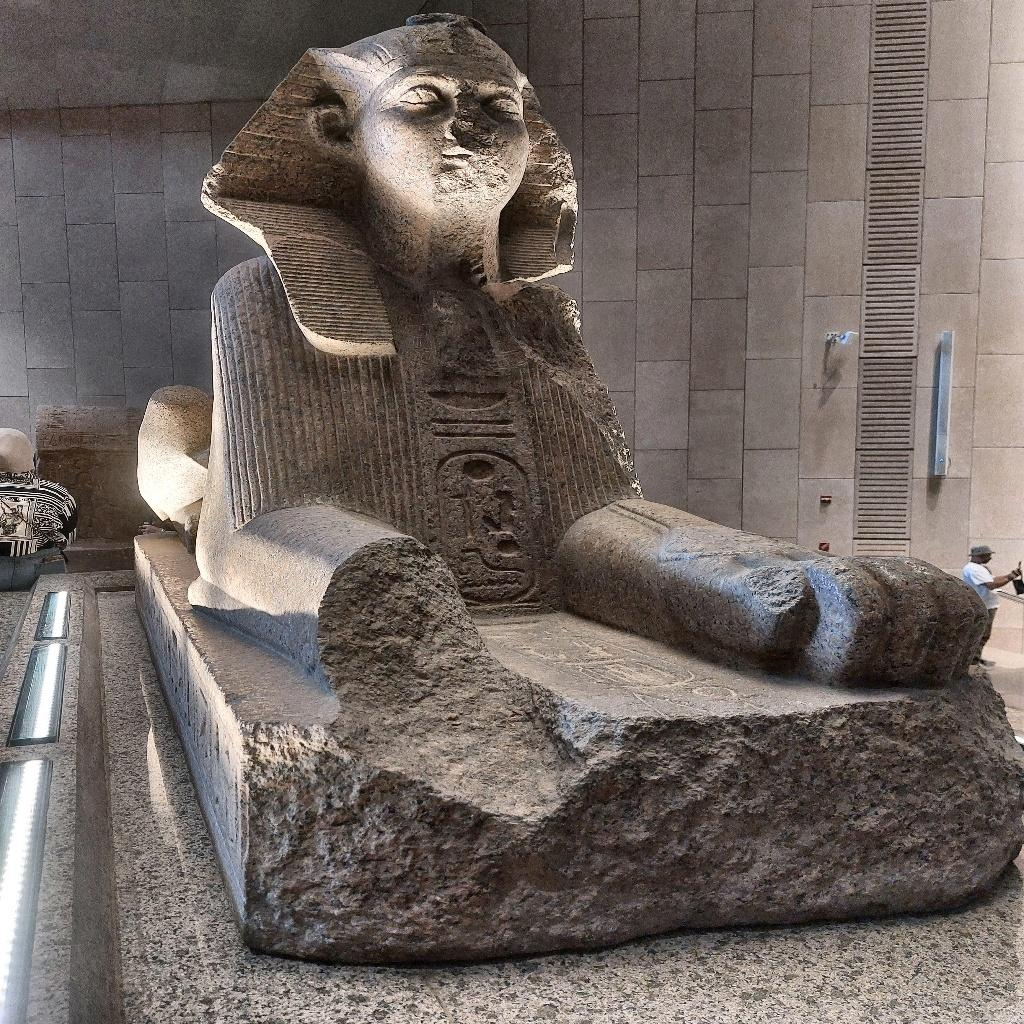Sphinx of Kings Ramesses ll - Merenptah: (129, 4, 1018, 700)
